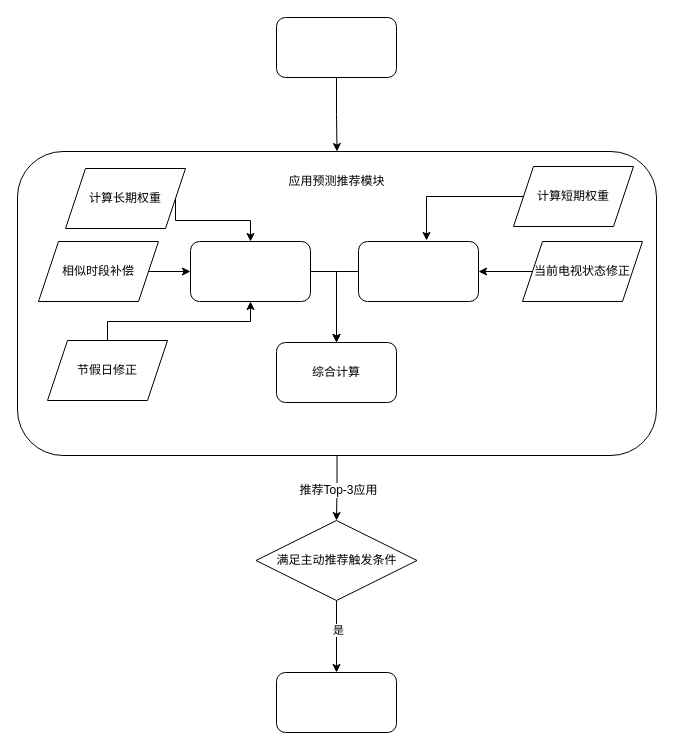
Some shapes in this 674 by 750 pixel diagram are drawn without their labels. The shapes that lost their labels are listed below. From the top down, each one's centre as x and y in pixels, then its label:
At (336,47): "用户画像数据".
At (250,271): "周期层".
At (418,271): "上下文层".
At (336,702): "显示推荐应用".
